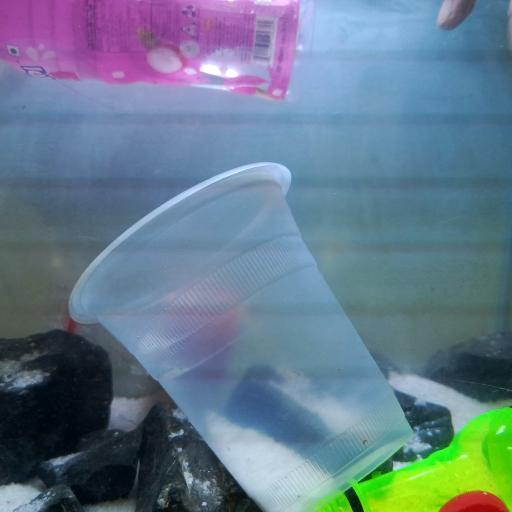bottle_cap: (443, 485, 509, 512)
plastic_bottle: (2, 0, 300, 108), (318, 399, 512, 512)
plastic_cup: (71, 161, 415, 511)
